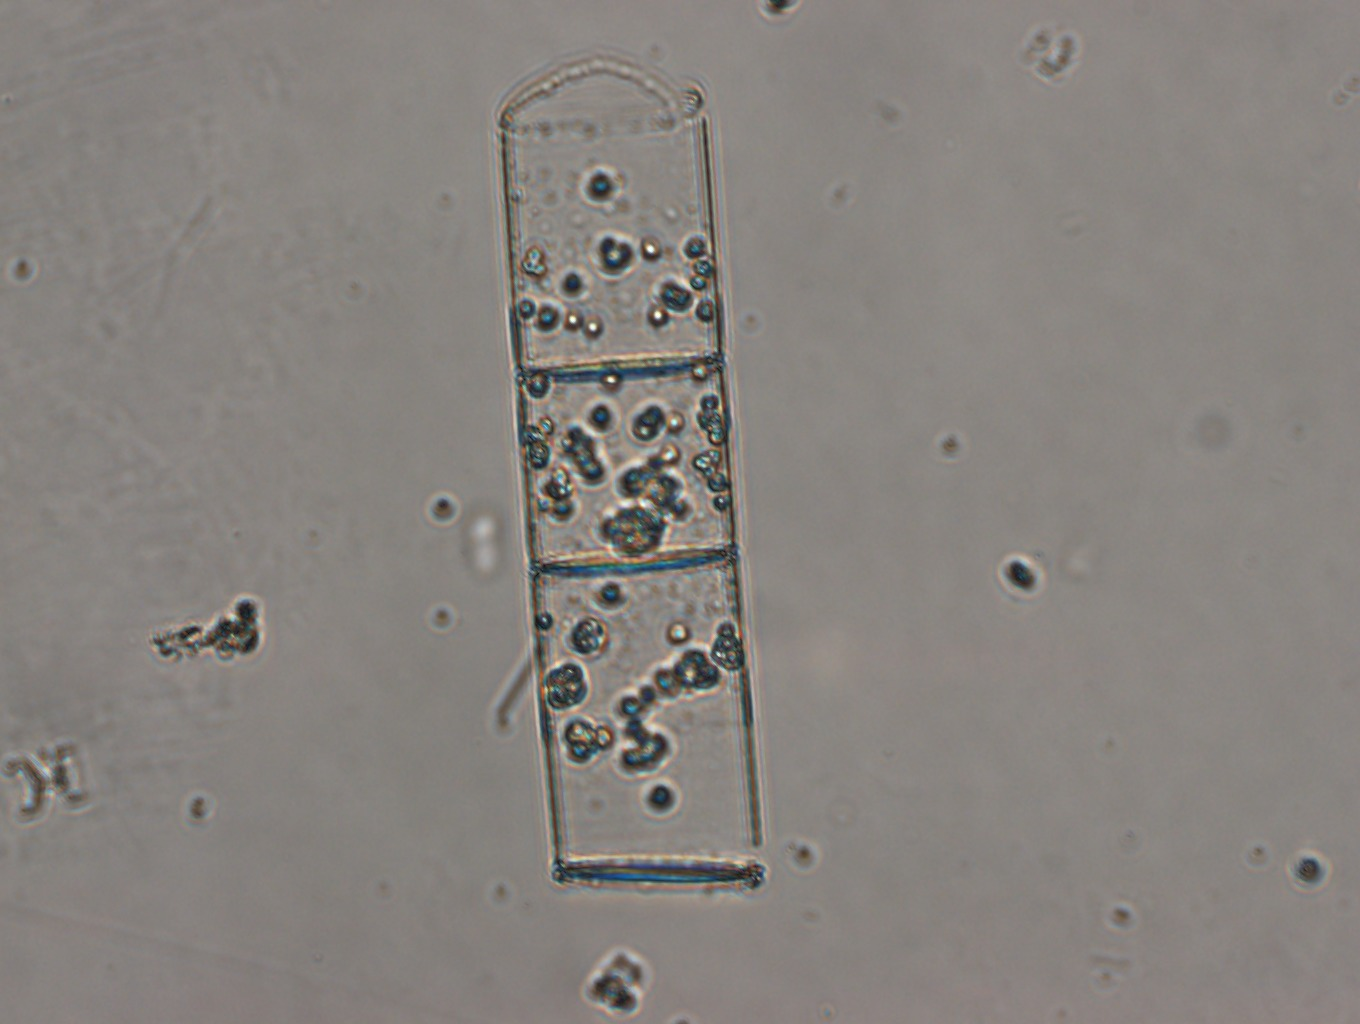guinardia flaccida: (493, 49, 772, 894)
